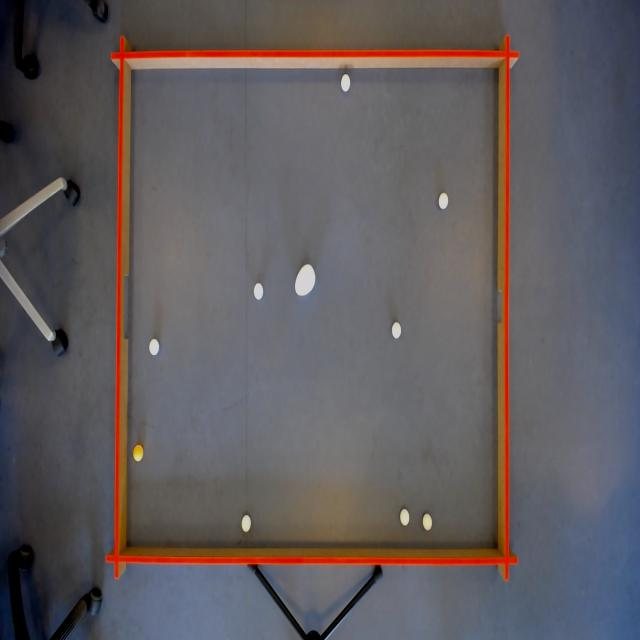egg: (293, 261, 317, 300)
orange_ball: (132, 442, 145, 466)
white_ball: (398, 506, 412, 530), (339, 71, 353, 95), (421, 509, 434, 534), (147, 336, 161, 359), (252, 280, 265, 303), (437, 190, 450, 213), (240, 512, 252, 536), (390, 320, 402, 342)
